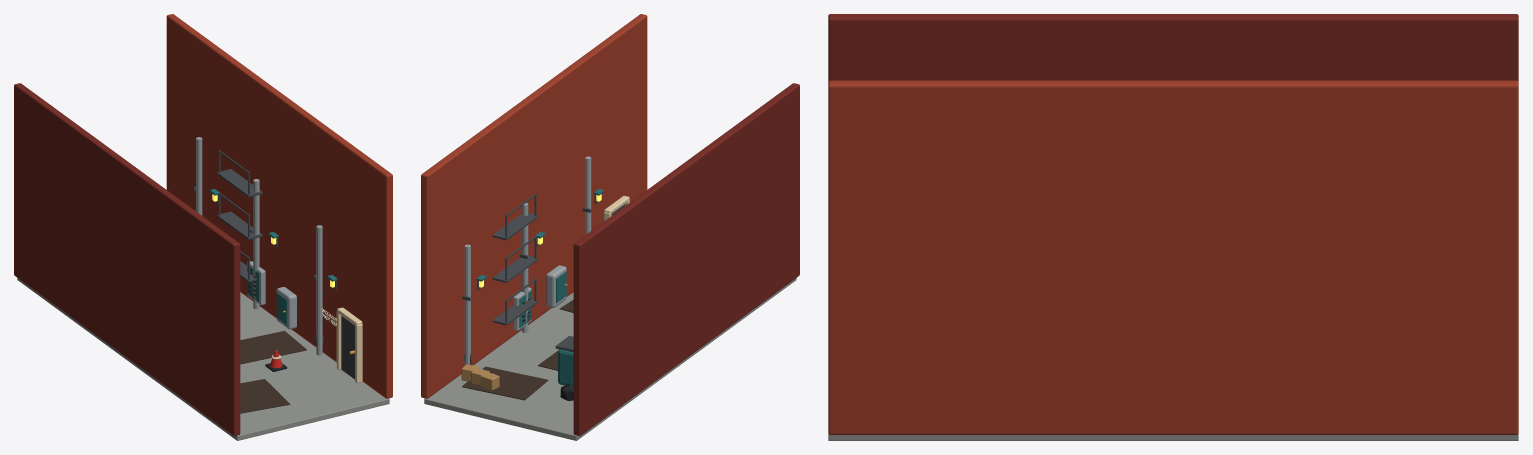
File: neighborhood_alley_a.glb
3 renders of one model, left to right at view 1: azimuth 30°, elevation 25°; view 2: azimuth 150°, elevation 25°; view 3: azimuth 270°, elevation 25°, orthographic. The views are drawn at different scales.
Parts seen in each view (by area): view 1: AlleyWallNeighbor, AlleyWallBuilding, AlleyGround, AlleyPatch_1, AlleyPatch_0, DrainPipe, Door.001, DrainPipe.001, DrainPipe.002, Box, Landing.002, Landing.001 (+1 smaller); view 2: AlleyWallNeighbor, AlleyWallBuilding, AlleyGround, AlleyPatch_3, DrainPipe.002, Body.001, DrainPipe.001, Landing.002, Landing.001, DrainPipe, Box, Landing; view 3: AlleyWallBuilding, AlleyWallNeighbor, AlleyGround.
Part boxes in pixels (x1,y1,x2,y2): AlleyWallNeighbor: [14, 83, 240, 435]; AlleyWallBuilding: [166, 14, 392, 398]; AlleyGround: [17, 278, 389, 440]; AlleyPatch_1: [240, 331, 306, 364]; AlleyPatch_0: [240, 379, 290, 413]; DrainPipe: [316, 225, 322, 355]; Door.001: [341, 316, 354, 379]; DrainPipe.001: [253, 179, 259, 309]; DrainPipe.002: [196, 137, 202, 215]; Box: [276, 287, 296, 329]; Landing.002: [217, 169, 262, 197]; Landing.001: [217, 211, 262, 239]; AlleyWallNeighbor: [573, 83, 799, 435]; AlleyWallBuilding: [421, 14, 647, 398]; AlleyGround: [424, 278, 796, 440]; AlleyPatch_3: [462, 366, 548, 400]; DrainPipe.002: [464, 244, 470, 365]; Body.001: [558, 349, 573, 386]; DrainPipe.001: [522, 202, 528, 332]; Landing.002: [492, 213, 538, 240]; Landing.001: [492, 255, 538, 282]; DrainPipe: [585, 156, 591, 235]; Box: [546, 265, 566, 307]; Landing: [492, 298, 538, 325]; AlleyWallBuilding: [828, 80, 1518, 434]; AlleyWallNeighbor: [828, 14, 1518, 81]; AlleyGround: [828, 433, 1518, 440].
Size of what is drawn, in the model's own units: 6.28 by 8.6 by 15.
